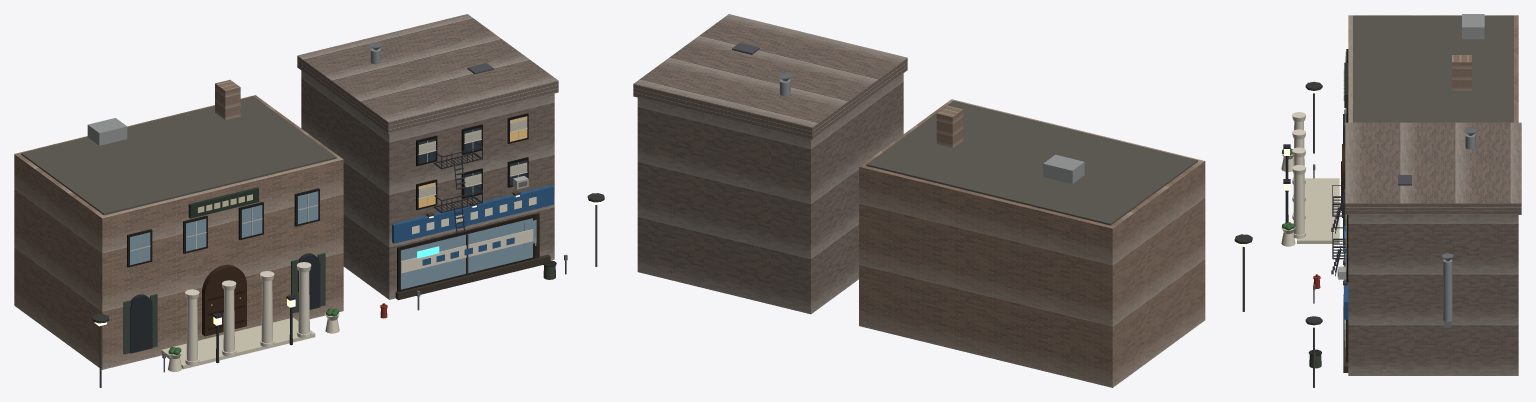
File: jersey_funeral_cleaner.glb
The picture shows the model from 3 angles, left to right: view 1: azimuth 30°, elevation 25°; view 2: azimuth 150°, elevation 25°; view 3: azimuth 270°, elevation 25°; orthographic projection. The views are drawn at different scales.
Size of the model in its own units: 40.2 by 14.8 by 16.9.
Materials: 64 (3 with a texture image).
